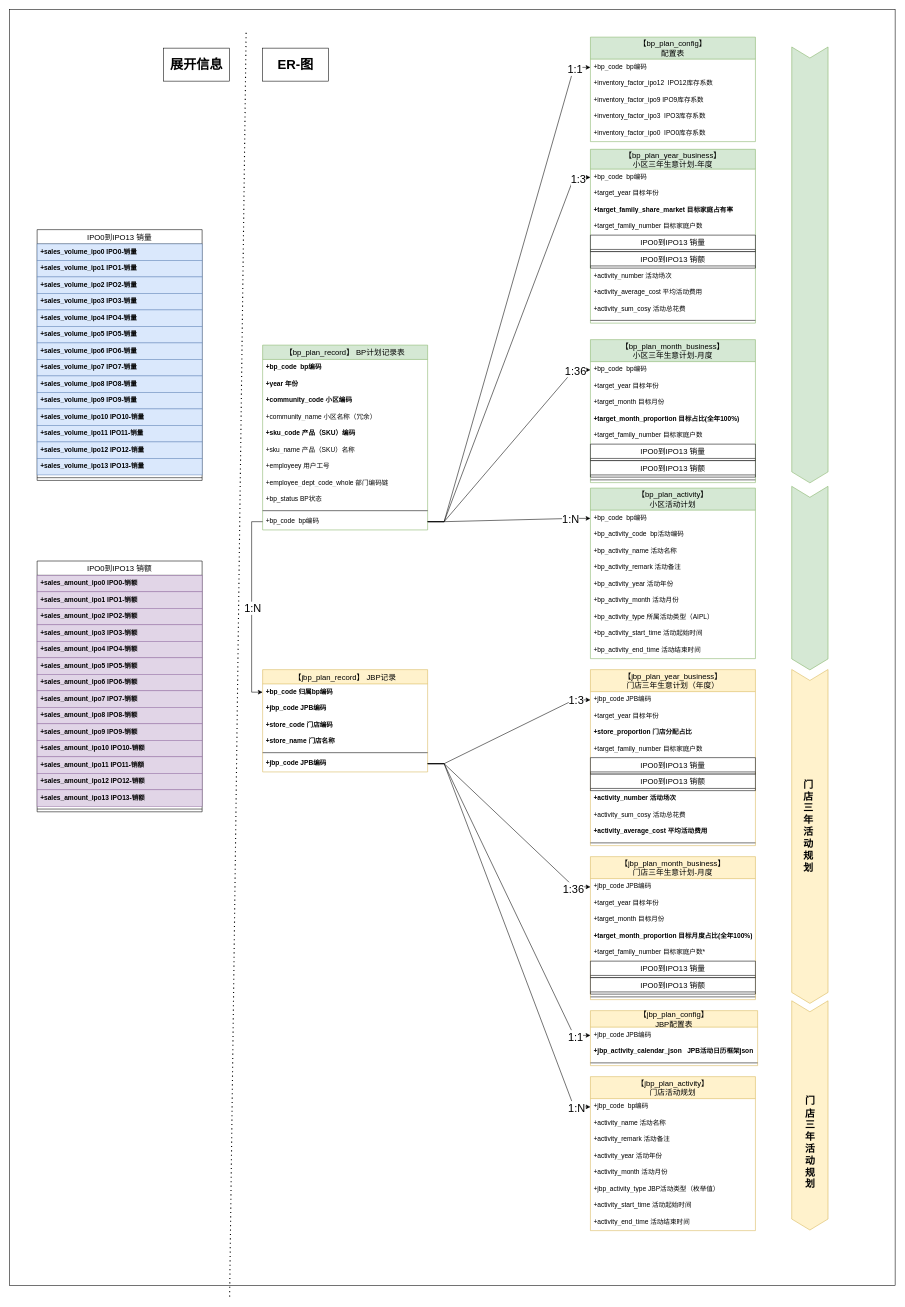
Image size: 905x1307. Some labels were removed from this diagram. The centre of each missing label's shape, as x and y in pixels:
小 区 三 年 活 动 规 划: (809,578)
小 区 三 年 生 意 计 划: (809,264)
